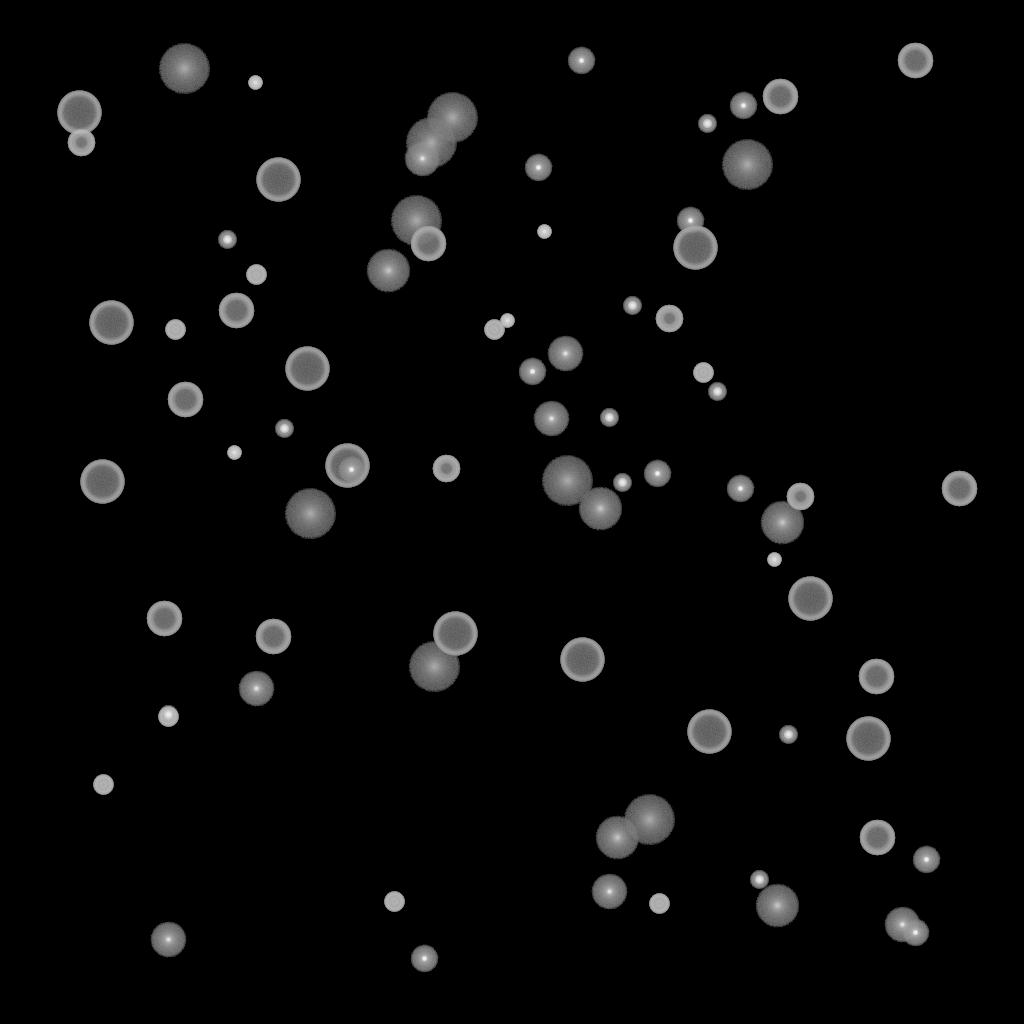depth:-10: (729, 92, 757, 120), (643, 460, 671, 488), (410, 945, 438, 973), (337, 456, 365, 484), (912, 846, 940, 874), (726, 475, 754, 503), (518, 358, 546, 386), (567, 47, 595, 75), (524, 154, 552, 182), (676, 207, 704, 235), (901, 919, 929, 947)
depth:-20: (275, 420, 293, 438), (159, 706, 177, 724), (600, 409, 618, 427), (623, 297, 641, 315), (698, 115, 716, 133), (779, 726, 797, 744), (708, 383, 726, 401), (218, 231, 236, 249), (750, 871, 768, 889), (613, 474, 631, 492)
depth:-30: (537, 225, 551, 239), (500, 314, 514, 328), (767, 553, 781, 567), (248, 76, 262, 90), (227, 446, 241, 460)
depth:-40: (93, 775, 113, 795), (158, 707, 178, 727), (649, 894, 669, 914), (693, 363, 713, 383), (384, 892, 404, 912), (165, 320, 185, 340), (484, 320, 504, 340), (246, 265, 266, 285)
depth:-50: (67, 129, 95, 157), (786, 483, 814, 511), (432, 455, 460, 483), (655, 305, 683, 333)
depth:-60: (146, 601, 182, 637), (897, 43, 933, 79), (410, 226, 446, 262), (941, 471, 977, 507), (218, 293, 254, 329), (255, 619, 291, 655), (762, 79, 798, 115), (859, 820, 895, 856), (858, 659, 894, 695), (167, 382, 203, 418)
depth:-70: (788, 577, 832, 621), (673, 226, 717, 270), (433, 612, 477, 656), (687, 710, 731, 754), (846, 717, 890, 761), (80, 460, 124, 504), (57, 91, 101, 135), (325, 444, 369, 488), (89, 301, 133, 345), (285, 347, 329, 391), (256, 158, 300, 202), (560, 638, 604, 682)
depth:0: (591, 874, 627, 910), (547, 336, 583, 372), (404, 141, 440, 177), (884, 907, 920, 943), (150, 922, 186, 958), (533, 401, 569, 437), (238, 671, 274, 707)
depth:10: (755, 884, 799, 928), (366, 249, 410, 293), (595, 816, 639, 860), (760, 501, 804, 545), (578, 487, 622, 531)
depth:20: (541, 456, 593, 506), (426, 93, 478, 143), (408, 642, 460, 692), (623, 795, 675, 845), (390, 196, 442, 246), (721, 140, 773, 190), (405, 118, 457, 168), (284, 489, 336, 539), (158, 44, 210, 94)
